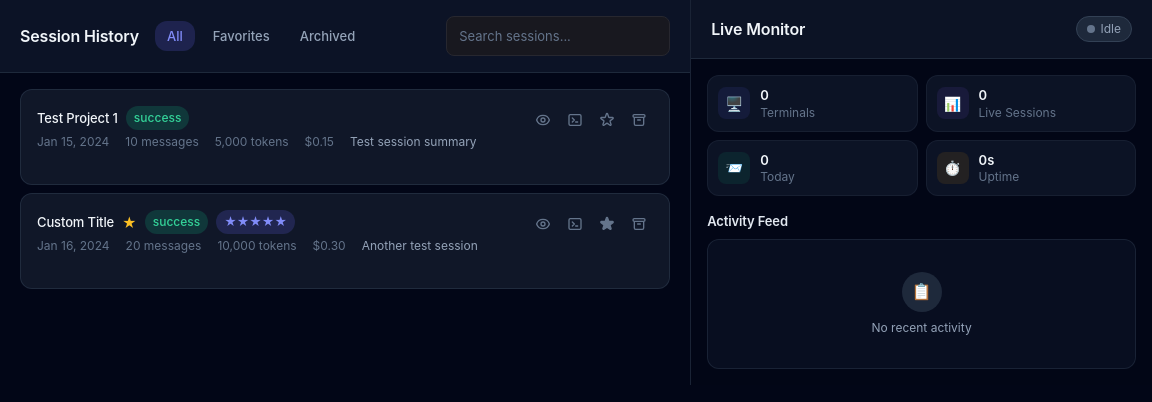
it: SessionsView › Search Functionality › shows empty state for no matching results
Expected: the heading "Test Project 1" is shown, [37, 109, 118, 127]
Type "nonexistent search term xyz" into the field with placeholder "Search sessions...". click: (558, 36)
box: [446, 16, 670, 56]
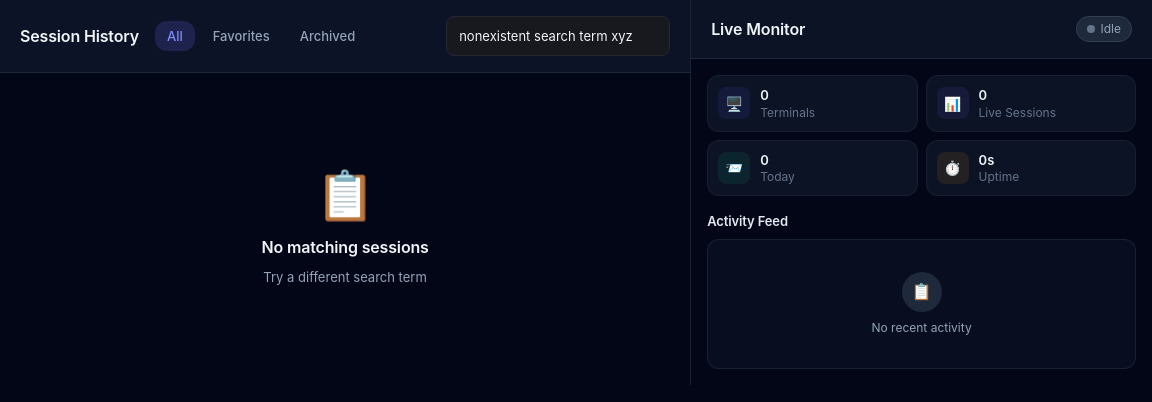
Now the heading "No matching sessions" is shown, box [262, 235, 429, 260]
